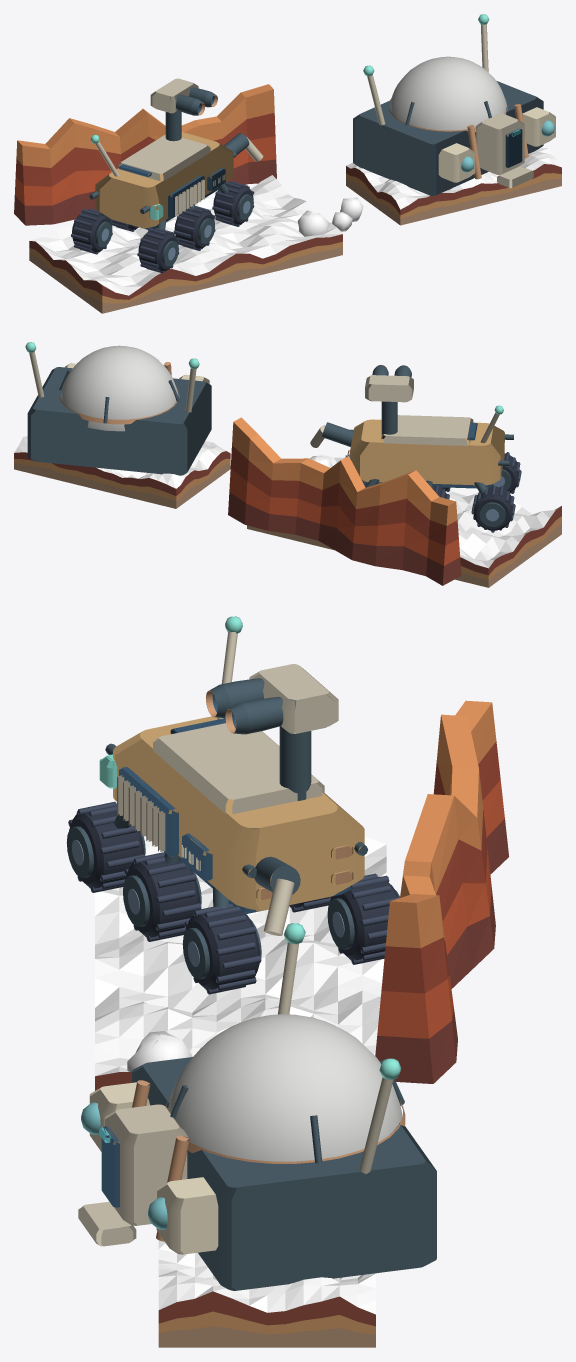
The model's file is marte-tormenta.obj.
The picture shows the model from 3 angles, top to bottom: view 1: azimuth 30°, elevation 25°; view 2: azimuth 150°, elevation 25°; view 3: azimuth 270°, elevation 25°; orthographic projection. The views are drawn at different scales.
Parts seen in each view (by area): view 1: marte-tormenta; view 2: marte-tormenta; view 3: marte-tormenta.
Part boxes in pixels (left/top/right/bottom): marte-tormenta: left=14, top=14, right=561, bottom=313; marte-tormenta: left=14, top=342, right=561, bottom=587; marte-tormenta: left=66, top=616, right=508, bottom=1347.
Size of the model in its own units: 1.62 by 0.5206 by 0.6519.
